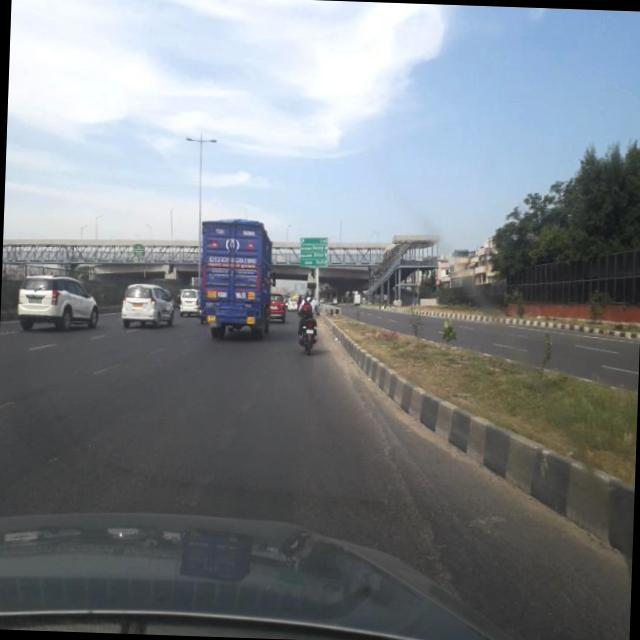pothole: (347, 388, 461, 579)
